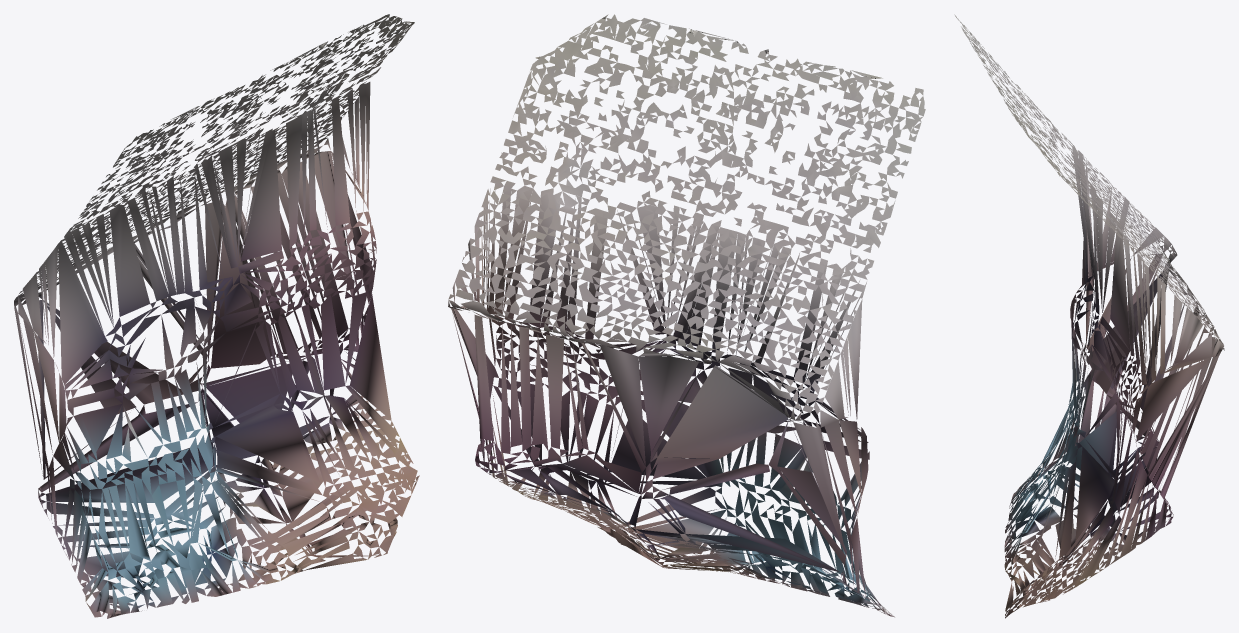
The model's file is alpha0-3.gltf.
3 views of the same model, side by side, from view 1: azimuth 30°, elevation 25°; view 2: azimuth 150°, elevation 25°; view 3: azimuth 270°, elevation 25° (orthographic). The views are drawn at different scales.
Size of the model in its own units: 1.04 by 1.55 by 0.75.
